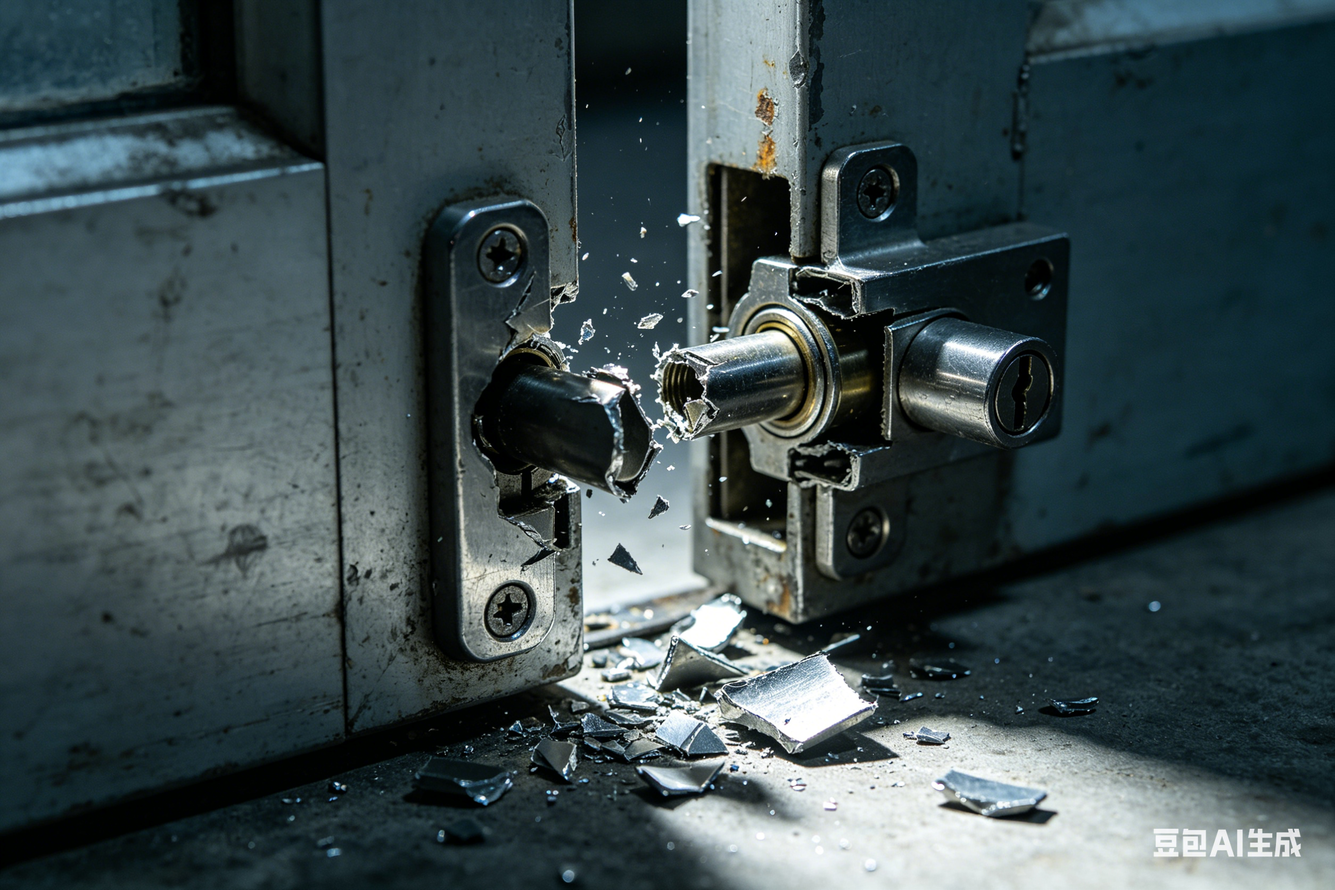BadLock: (529, 332, 760, 491)
